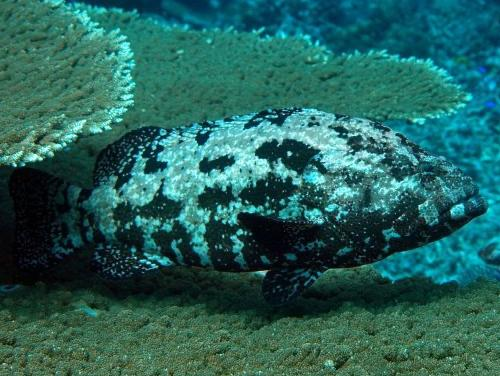Serranidae -Groupers-: (0, 103, 492, 313)
